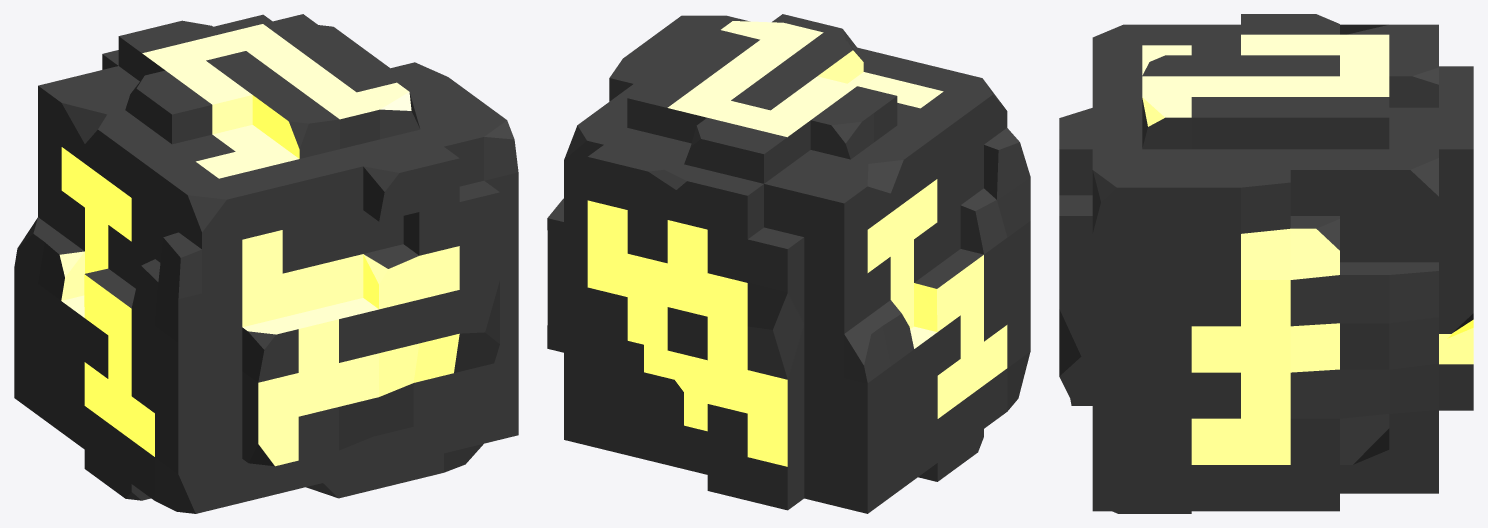
The model's file is rune_rock_01.fbx.
3 views of the same model, side by side, from view 1: azimuth 30°, elevation 25°; view 2: azimuth 150°, elevation 25°; view 3: azimuth 270°, elevation 25° (orthographic). The views are drawn at different scales.
Parts seen in each view (by area): view 1: rune_rock_01; view 2: rune_rock_01; view 3: rune_rock_01.
Part boxes in pixels (left/top/right/bottom): rune_rock_01: left=14, top=14, right=518, bottom=513; rune_rock_01: left=547, top=14, right=1030, bottom=513; rune_rock_01: left=1059, top=14, right=1473, bottom=513.
Size of the model in its own units: 30 by 30 by 30.
